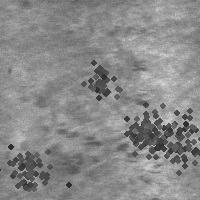rolled-in_scale: (28, 124, 166, 186), (139, 101, 200, 177), (110, 96, 176, 162), (96, 25, 149, 107), (0, 131, 60, 199), (73, 54, 123, 104)
